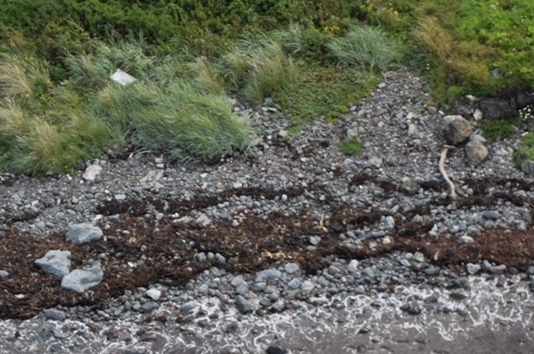tube: (433, 147, 465, 200)
white_in_green: (105, 60, 142, 92)
